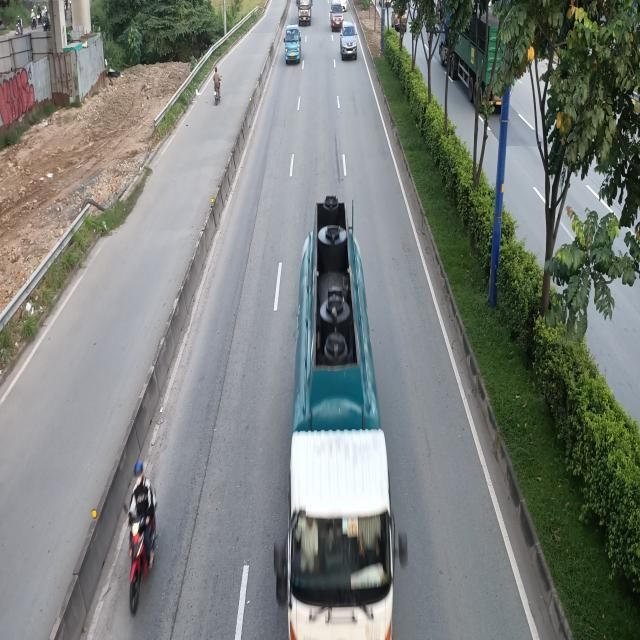car: (341, 19, 359, 59)
container: (271, 192, 404, 638)
truck: (283, 24, 302, 64)
